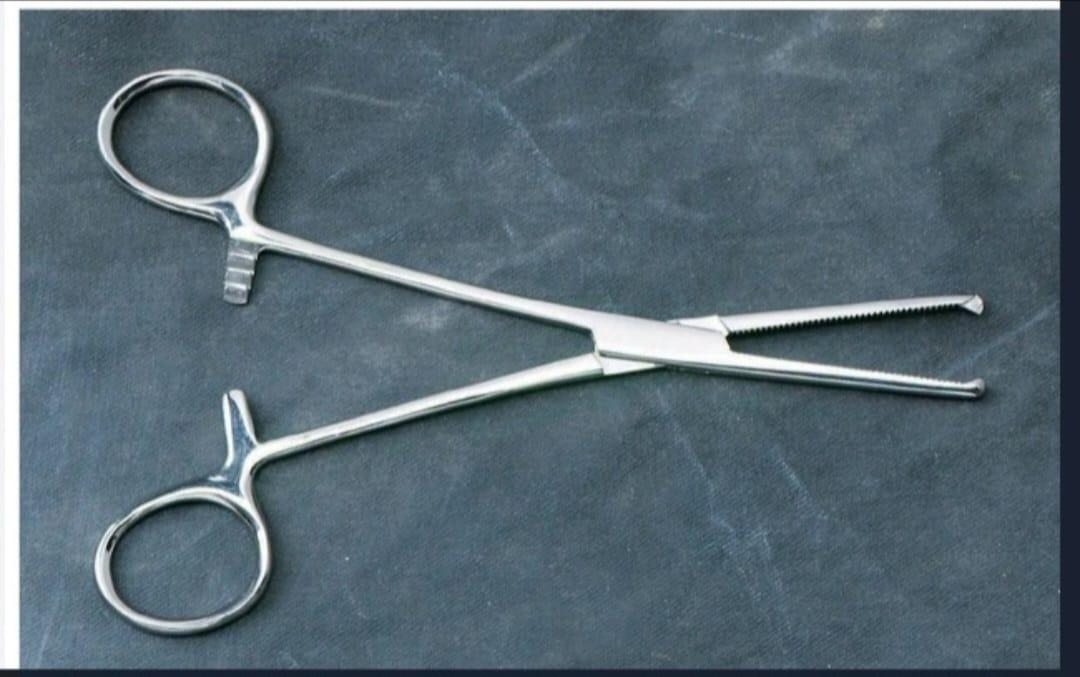Kocher Forceps: (87, 62, 995, 638)
